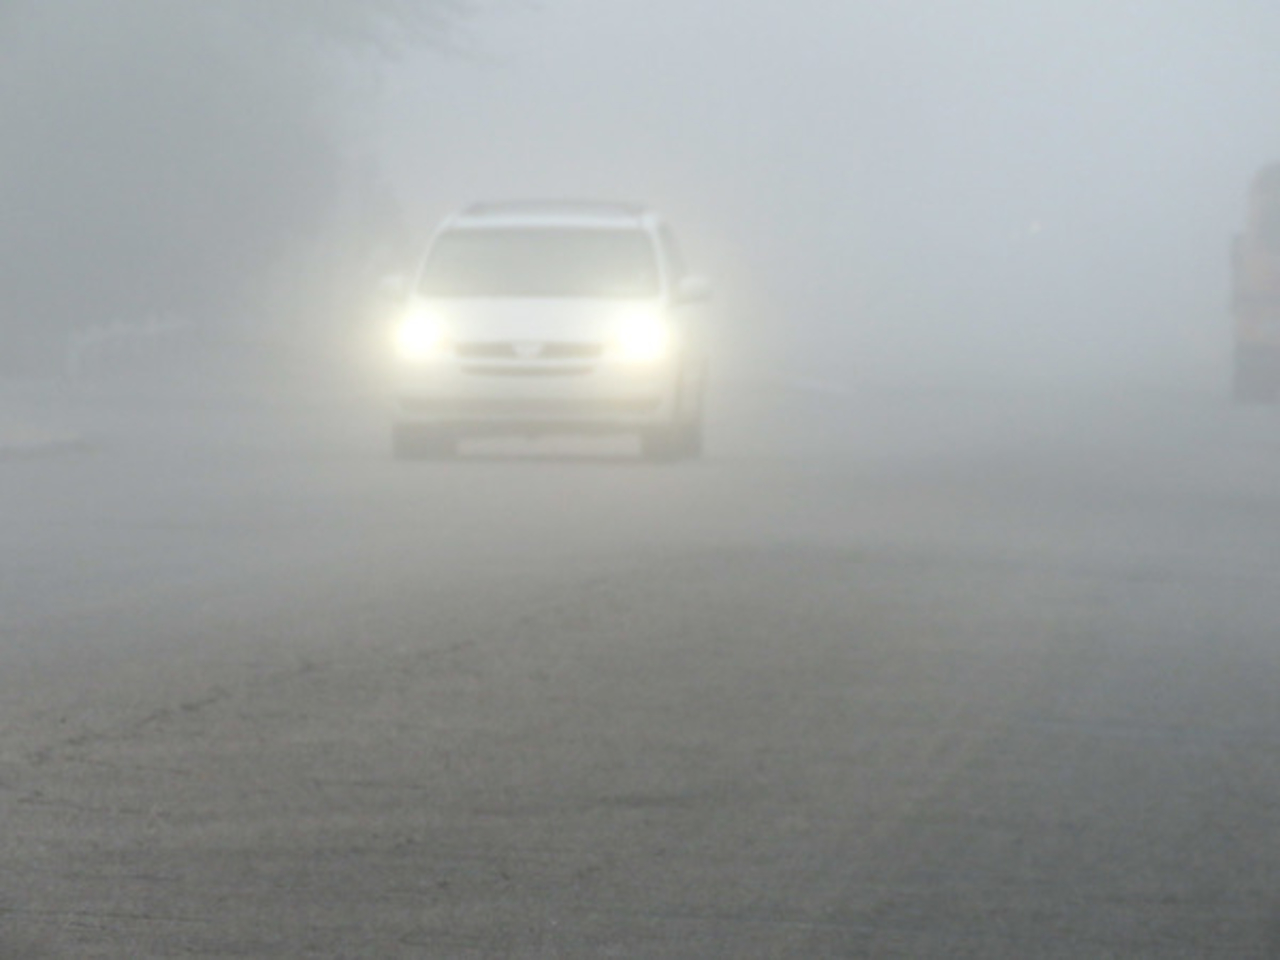car: (386, 208, 723, 455)
